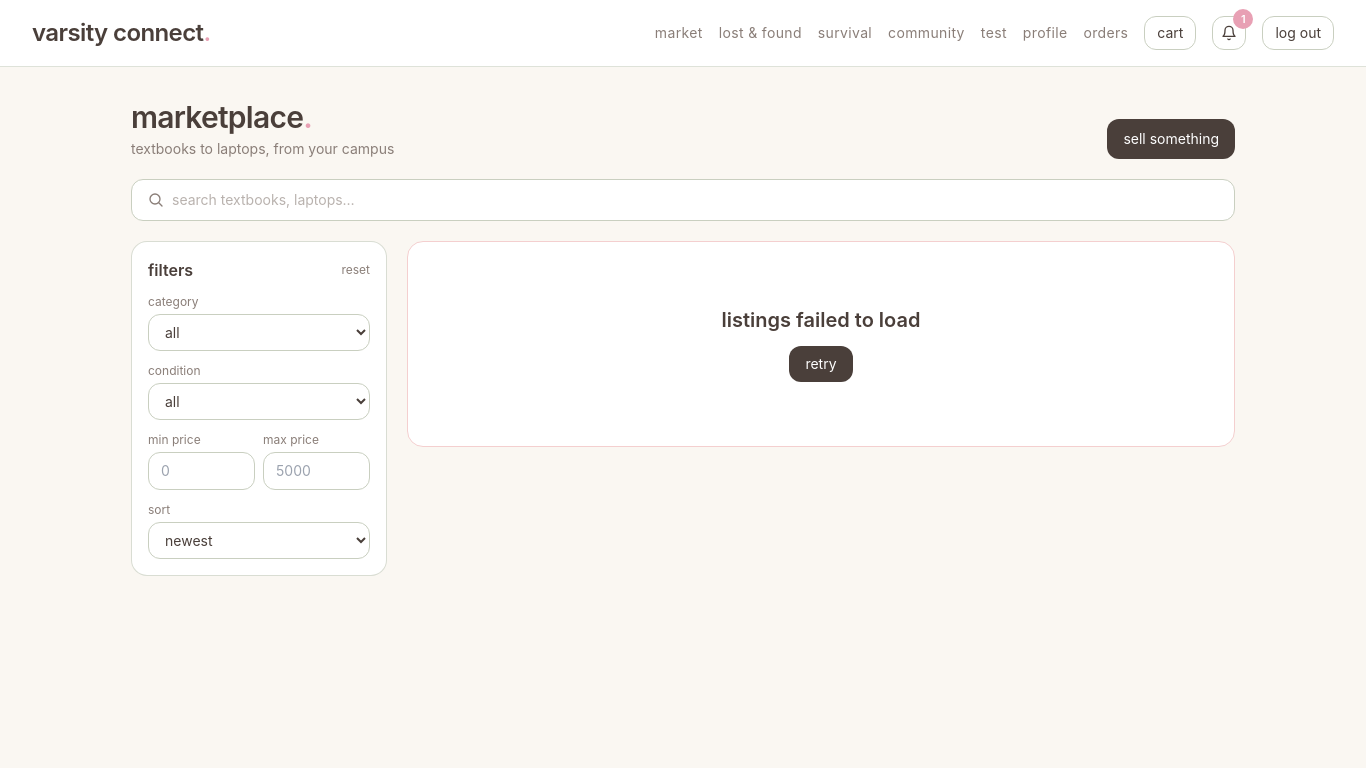
Test: marketplace page › shows an error state that can retry
Expected: the text "listings failed to load" is shown, [722, 306, 920, 334]
Click the button "retry" at (821, 364), box [789, 346, 852, 382]
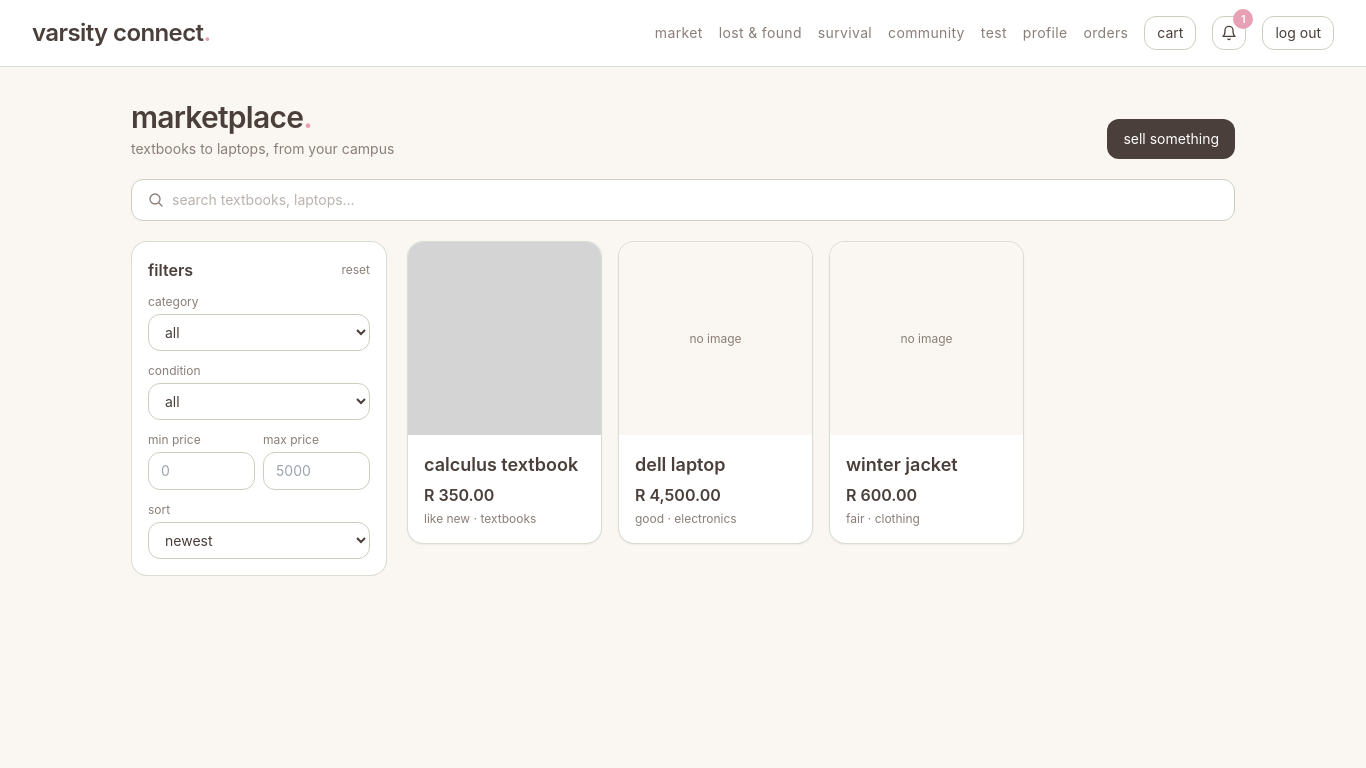
Expected: the text "calculus textbook" is shown, [424, 451, 585, 479]
